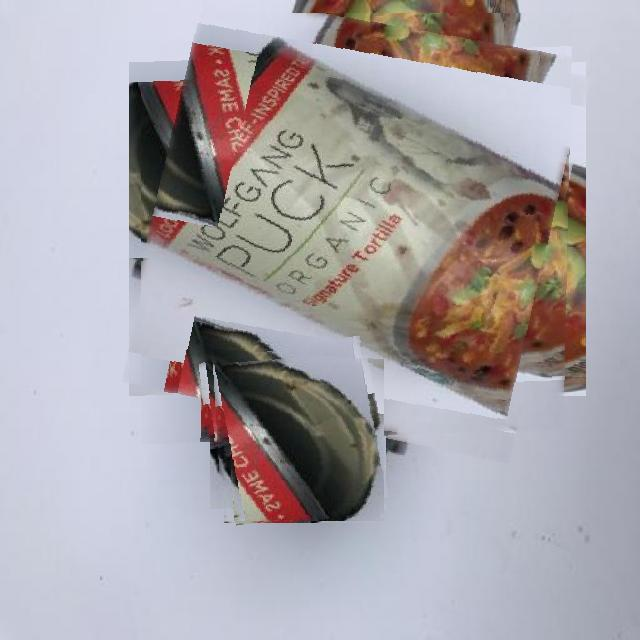recyclable: (141, 13, 573, 445), (212, 349, 384, 522)
